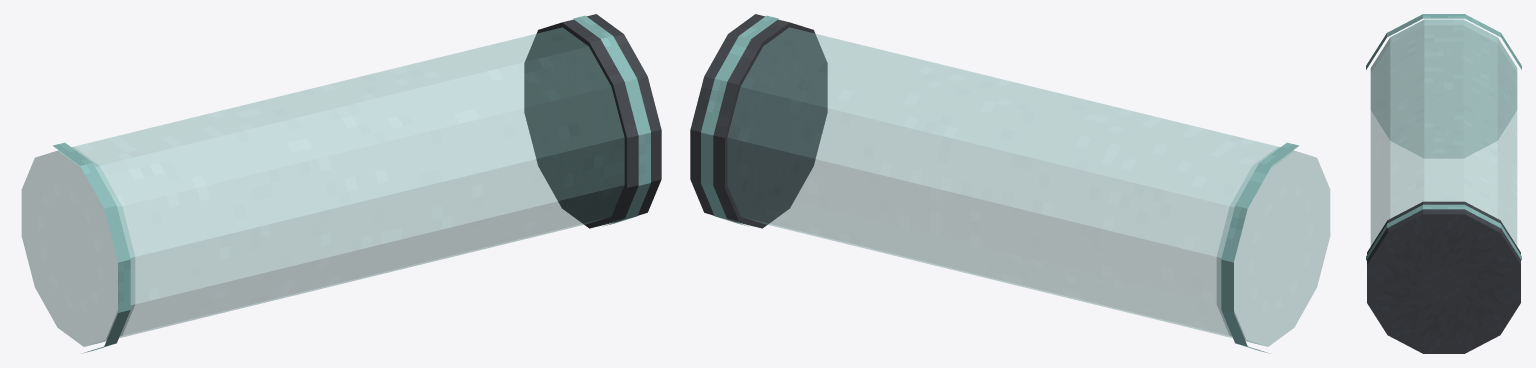
The model's file is tube_welding_rod.glb.
The picture shows the model from 3 angles, left to right: view 1: azimuth 30°, elevation 25°; view 2: azimuth 150°, elevation 25°; view 3: azimuth 270°, elevation 25°; orthographic projection. The views are drawn at different scales.
Parts seen in each view (by area): view 1: block_outer wall, block_threaded end cap, block_sealed clear base, block_rolled rim (×2); view 2: block_outer wall, block_threaded end cap, block_sealed clear base, block_rolled rim (×2); view 3: block_outer wall, block_threaded end cap, block_sealed clear base, block_rolled rim (×2).
Part boxes in pixels (x1,y1,x2,y2): block_outer wall: [57, 27, 624, 346]; block_threaded end cap: [524, 14, 661, 228]; block_sealed clear base: [21, 147, 135, 346]; block_rolled rim (×2): [53, 15, 650, 353]; block_outer wall: [727, 27, 1294, 346]; block_threaded end cap: [690, 14, 827, 228]; block_sealed clear base: [1217, 147, 1330, 346]; block_rolled rim (×2): [701, 15, 1298, 353]; block_outer wall: [1370, 19, 1517, 245]; block_threaded end cap: [1367, 201, 1520, 353]; block_sealed clear base: [1371, 20, 1517, 158]; block_rolled rim (×2): [1366, 14, 1521, 260].
Size of the model in its own units: 0.48 by 0.1585 by 0.1585.
2 materials, 2 textured.
